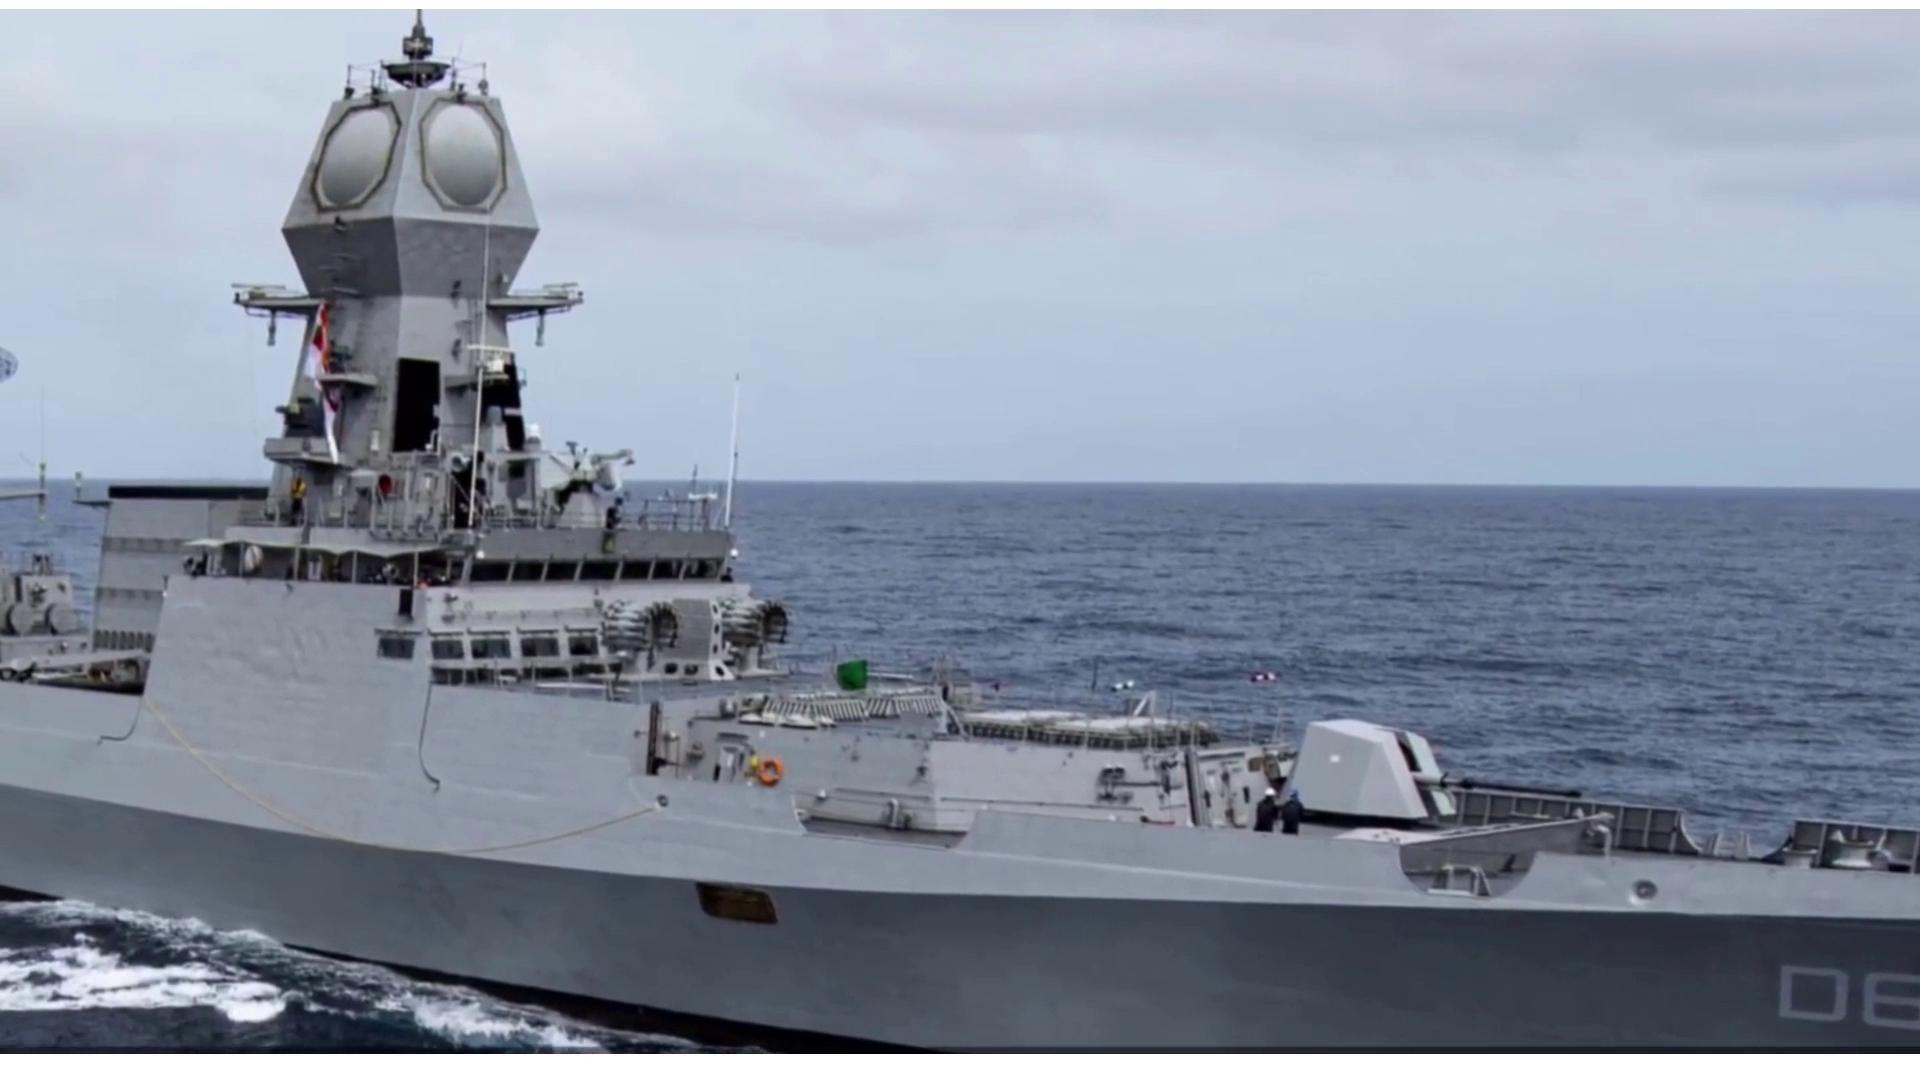OCR: (1768, 960, 1920, 1040)
